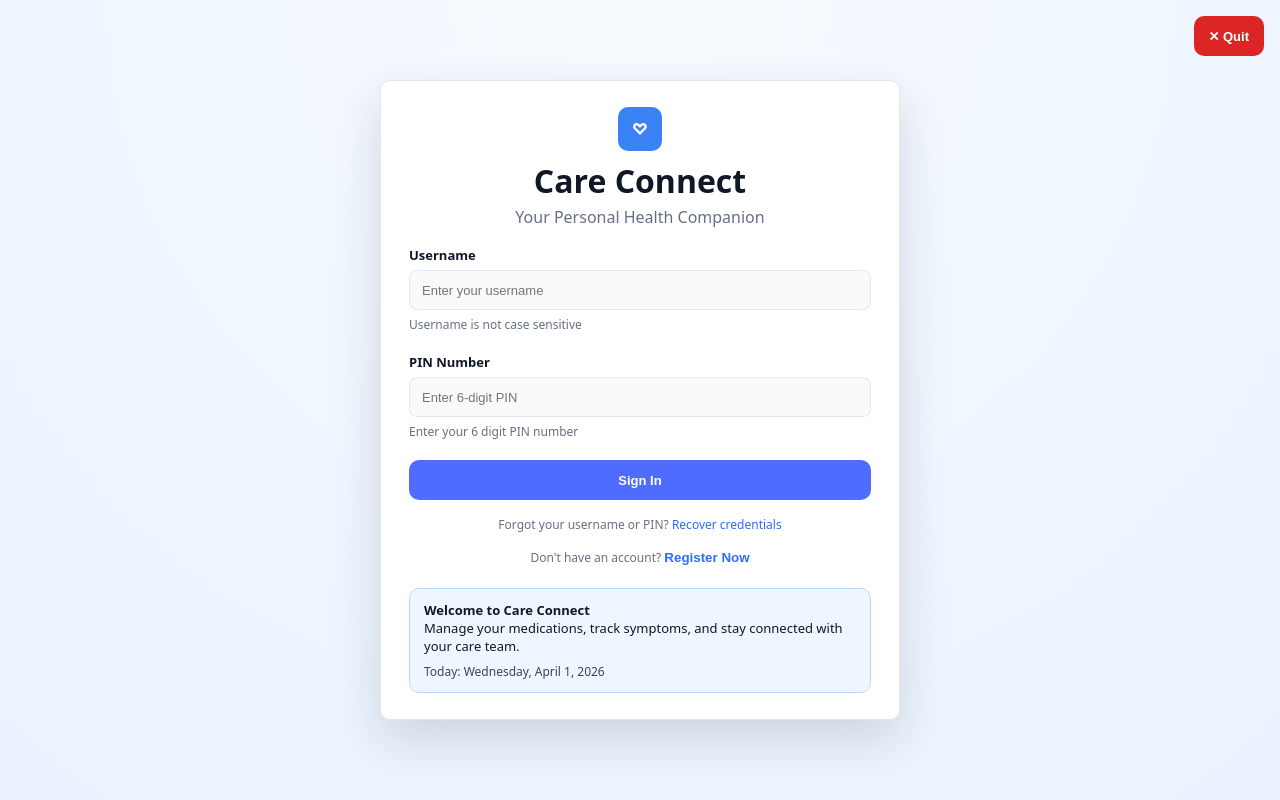
Scenario: Login Screen - Comprehensive Tests › Validation - Error Cases › shows error when username is empty
The width and height of the screenshot is (1280, 800).
Click the button "Sign In": (640, 480) [409, 460, 871, 500]
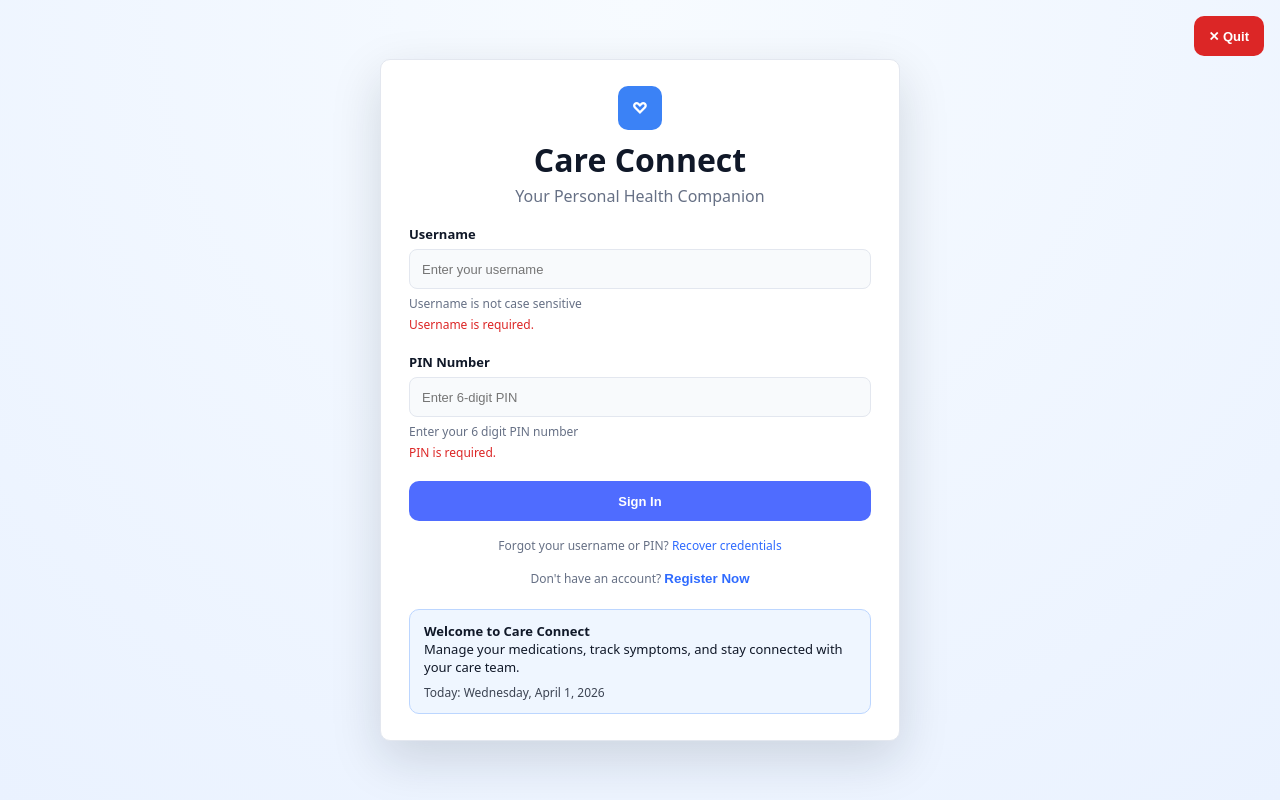
Expected: the text "Username is required." is shown, [409, 316, 534, 333]
